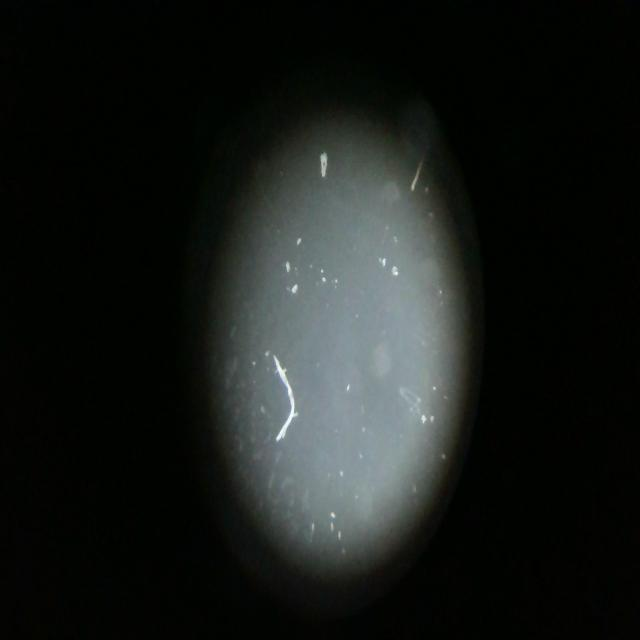psudo-nitzschia: (268, 341, 301, 454)
